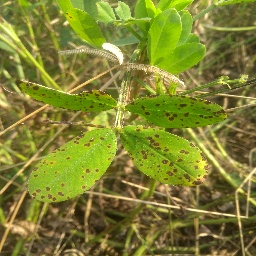GroundNut_Leaf: (24, 127, 118, 215), (123, 128, 214, 194), (11, 73, 118, 116), (129, 91, 230, 127), (146, 6, 183, 73), (63, 7, 106, 50)
